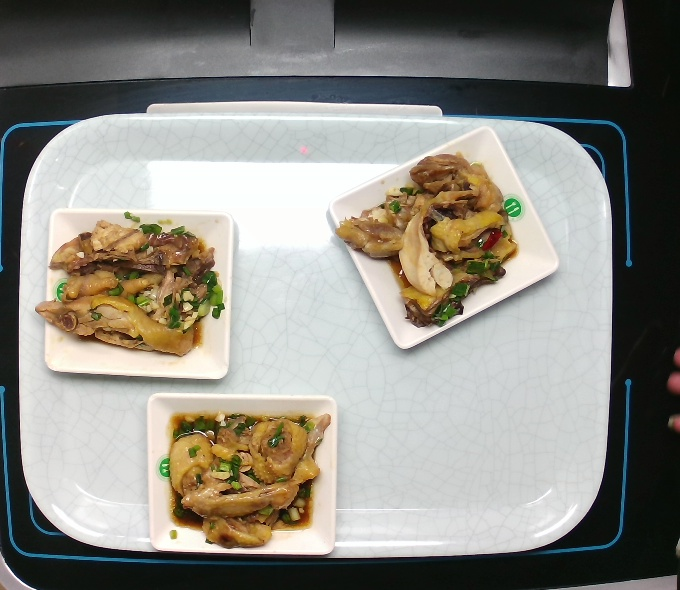wcq-CongYouJi: (334, 148, 519, 336), (34, 213, 228, 367), (155, 408, 345, 550)
